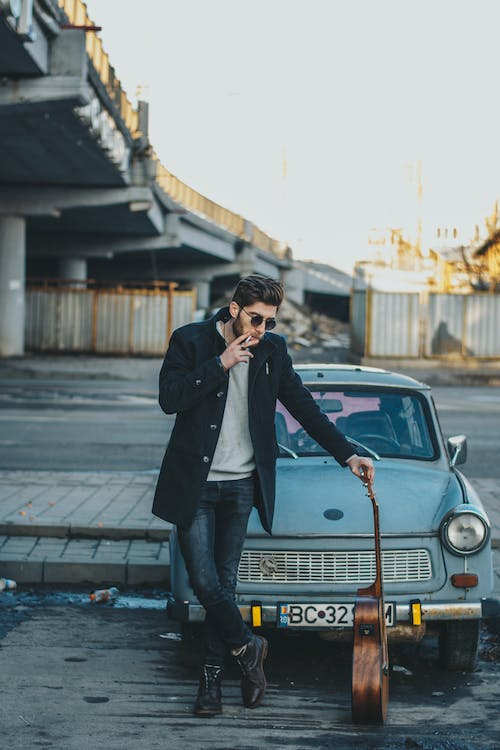cigarette: (243, 333, 254, 346)
